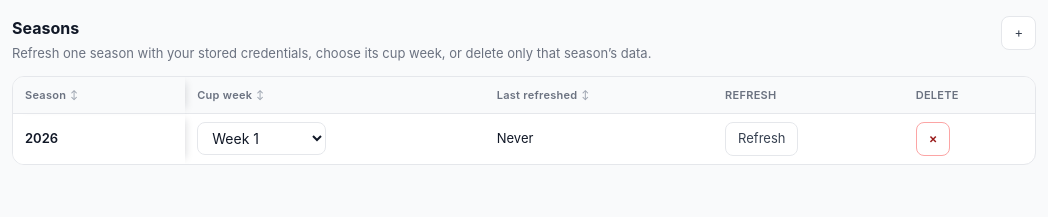
Test case: SeasonsSection › shows the rate-limit message for a rejected refresh
Expected: the column heading "2026" is shown, [13,114,185,164]
Click the button with aria-label "Refresh season 2026" at point(762, 139), box [725,122,798,156]
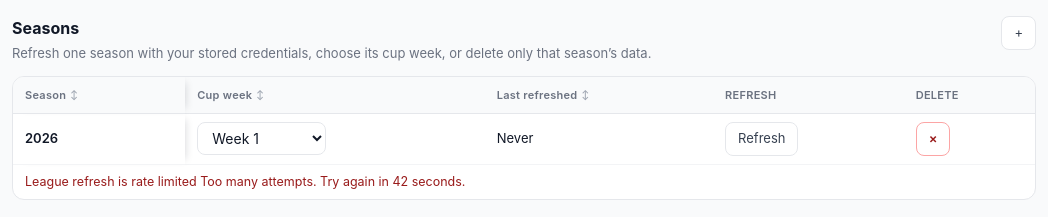
Expected: the message shows "Try again in 42 seconds", [25,174,466,188]
